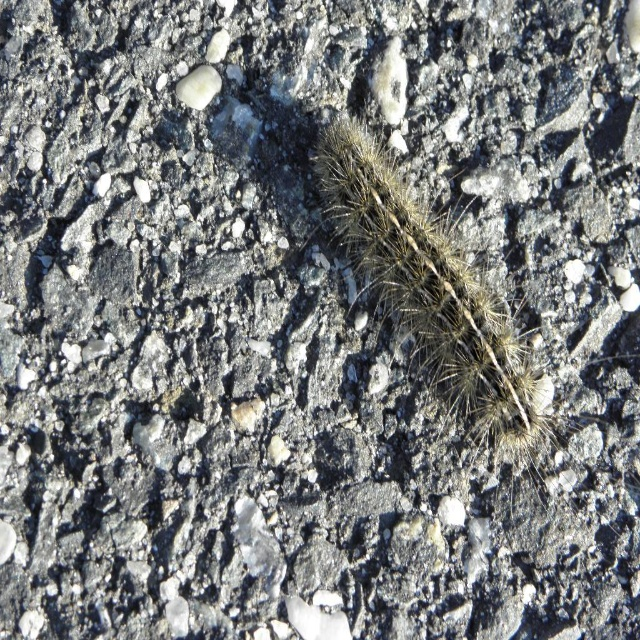Caterpillar: (308, 109, 636, 538)
